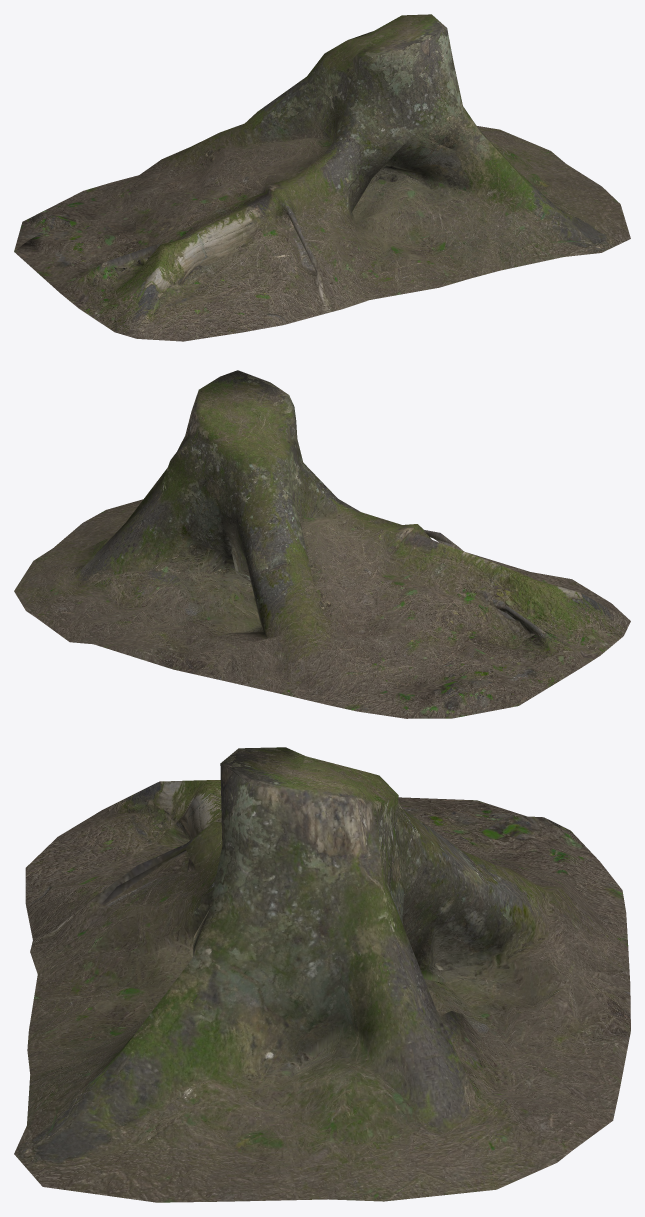
The model's file is PX_Stump_06_LOD5.fbx.
3 views of the same model, one above another, from view 1: azimuth 30°, elevation 25°; view 2: azimuth 150°, elevation 25°; view 3: azimuth 270°, elevation 25° (orthographic). The views are drawn at different scales.
Visible parts, largest first — view 1: PX_Stump_06_LOD5; view 2: PX_Stump_06_LOD5; view 3: PX_Stump_06_LOD5.
Boxes of the visible parts, box(x1,y1,x2,y2) form: PX_Stump_06_LOD5: box(14, 14, 630, 341); PX_Stump_06_LOD5: box(14, 370, 630, 718); PX_Stump_06_LOD5: box(14, 747, 630, 1202).
Size of the model in its own units: 248 by 89.76 by 160.
